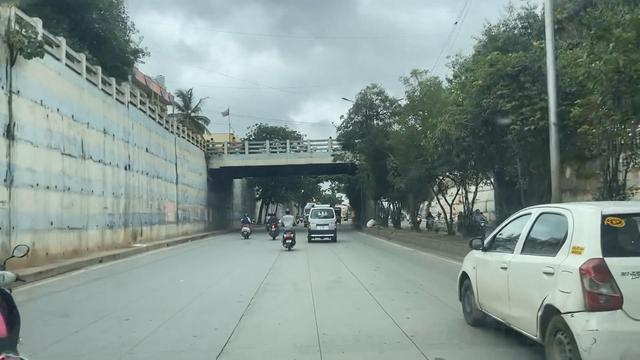LMV: (450, 205, 640, 360)
